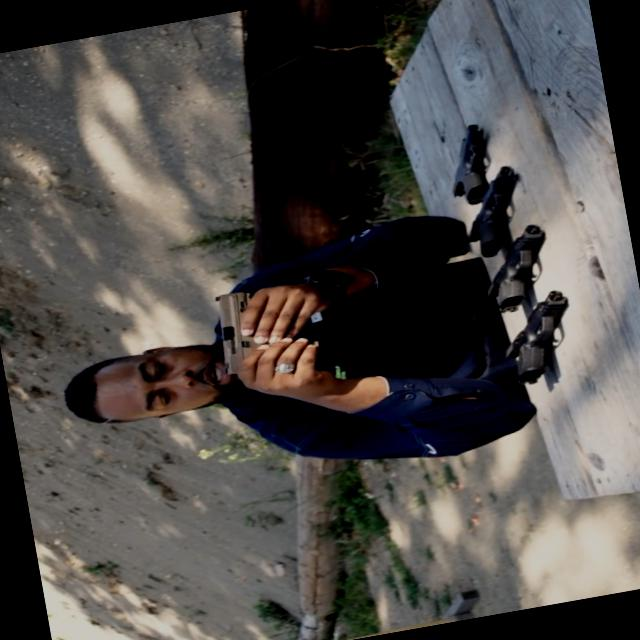handgun: (187, 262, 352, 387), (465, 210, 573, 316), (481, 284, 584, 394), (447, 156, 537, 262), (432, 118, 510, 212)
